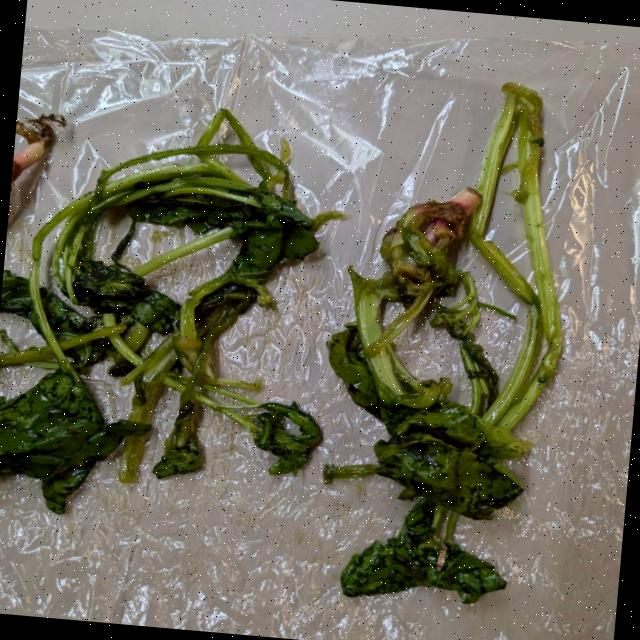rotten spinach: (0, 19, 607, 632), (274, 45, 601, 640), (0, 76, 355, 559)
